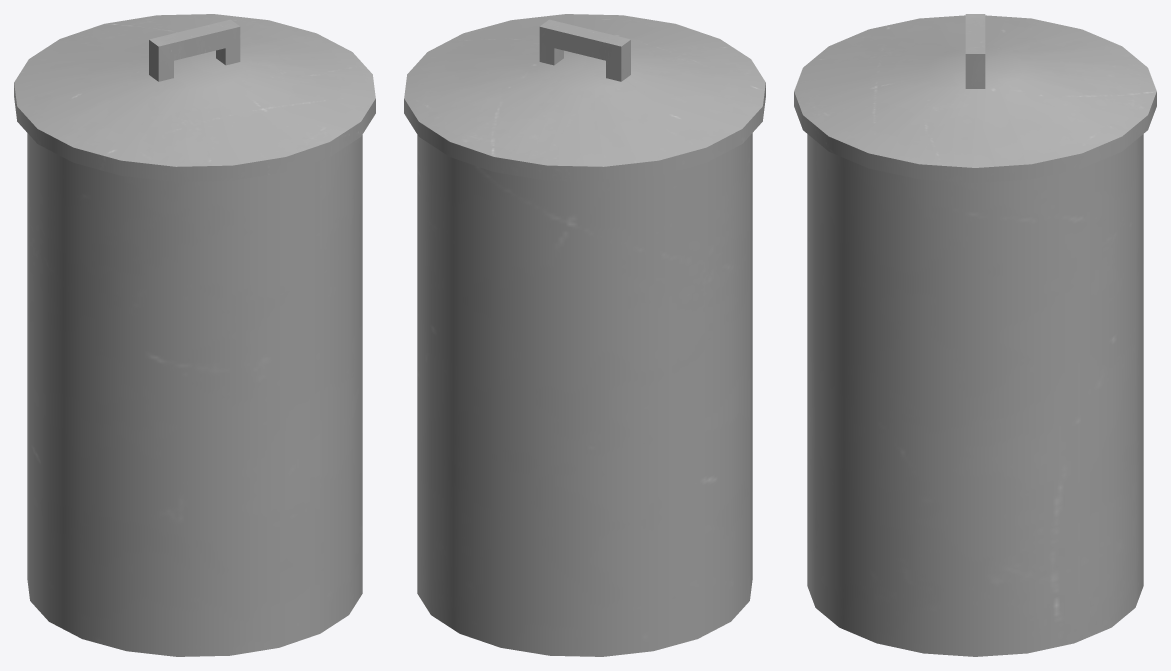
The model's file is Trashcan.fbx.
3 renders of one model, left to right at view 1: azimuth 30°, elevation 25°; view 2: azimuth 150°, elevation 25°; view 3: azimuth 270°, elevation 25°, orthographic.
Parts seen in each view (by area): view 1: Trashcan, Handle11; view 2: Trashcan, Handle11; view 3: Trashcan, Handle11.
Part boxes in pixels (bbox=[...]): Trashcan: bbox=[14, 14, 375, 656]; Handle11: bbox=[149, 19, 240, 81]; Trashcan: bbox=[404, 14, 765, 656]; Handle11: bbox=[539, 19, 630, 81]; Trashcan: bbox=[794, 15, 1156, 656]; Handle11: bbox=[965, 14, 985, 88].
Size of the model in its own units: 0.522 by 0.876 by 0.522.
